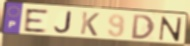9: (107, 13, 128, 39)
D: (131, 14, 156, 40)
E: (24, 8, 50, 33)
J: (53, 11, 73, 35)
K: (79, 11, 101, 37)
N: (157, 15, 184, 42)
